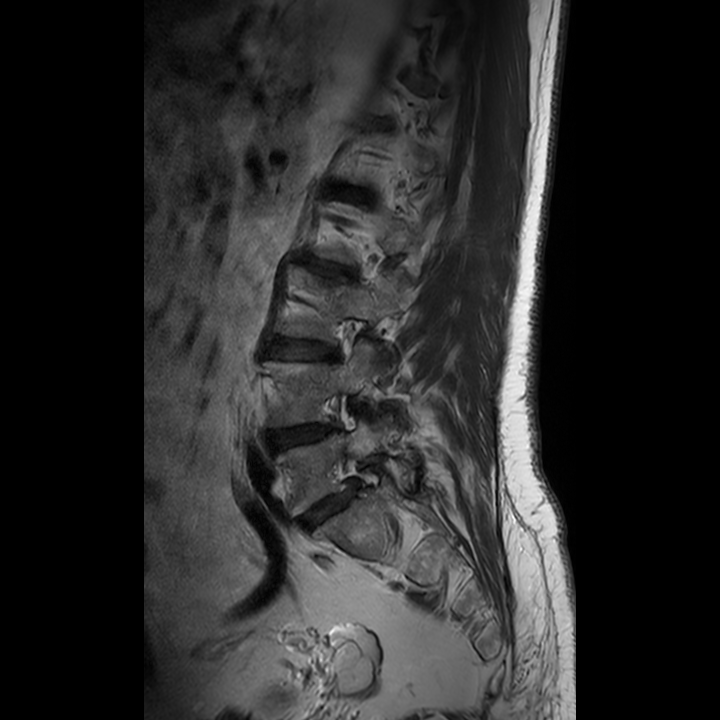LFS1: (320, 309, 374, 377), (310, 388, 364, 456)
